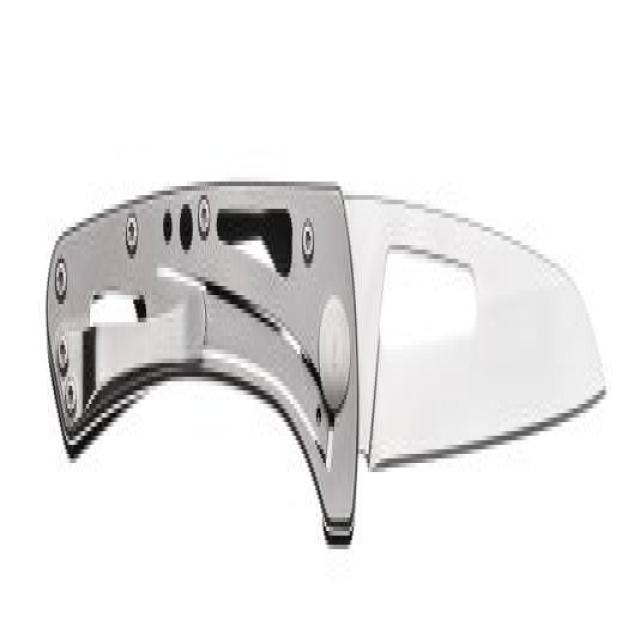knife: (44, 160, 614, 556)
